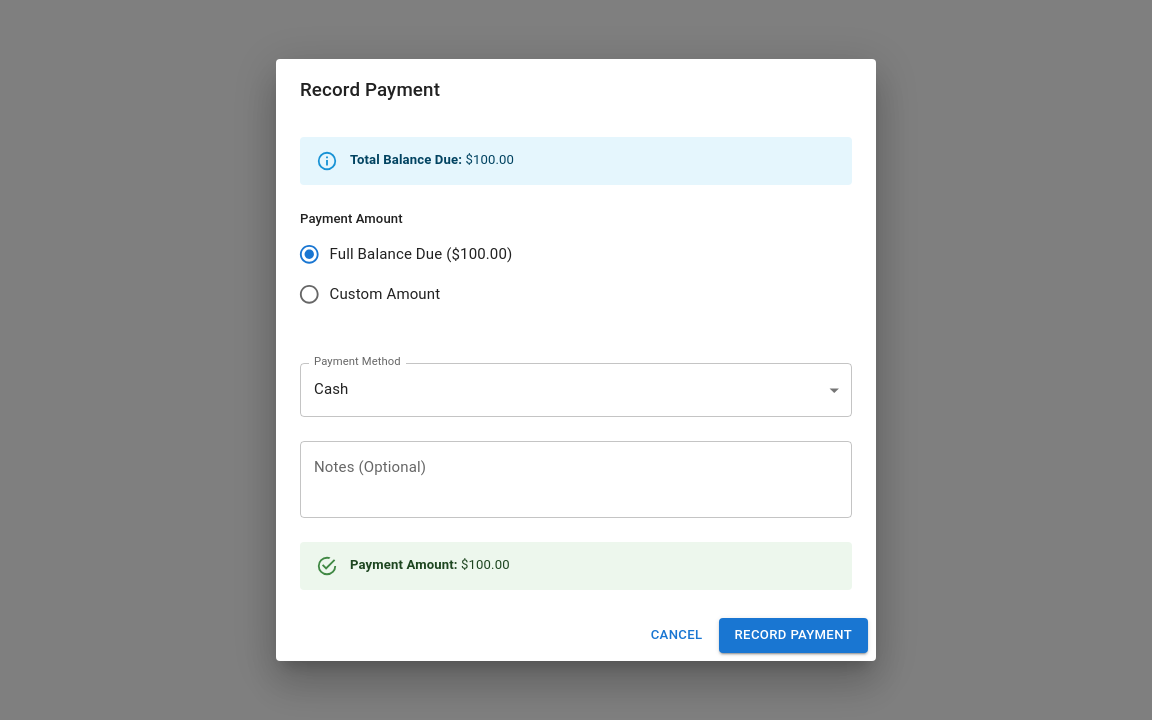
RecordPaymentDialog › Payment Type Selection › should validate custom amount does not exceed balance due
Click the radio button labelled "Custom Amount" at (369,295), box [298,283,440,306]
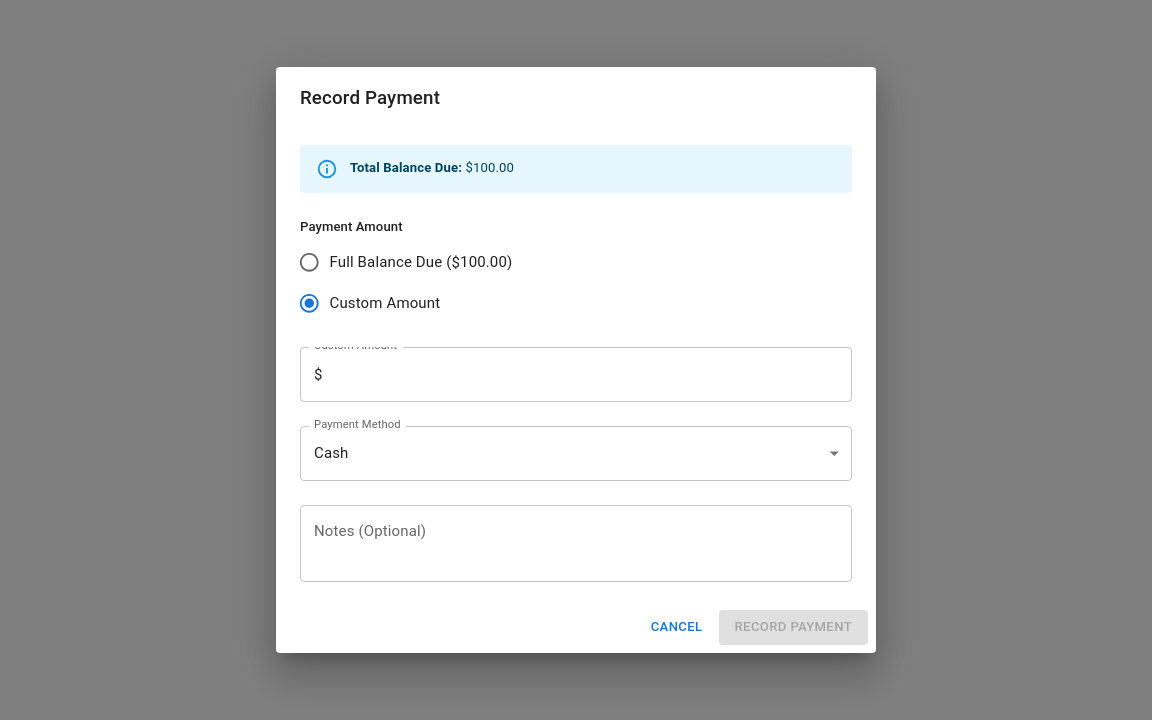
Type "150" into the number field labelled "Custom Amount" at (587,375), box [323,347,852,402]
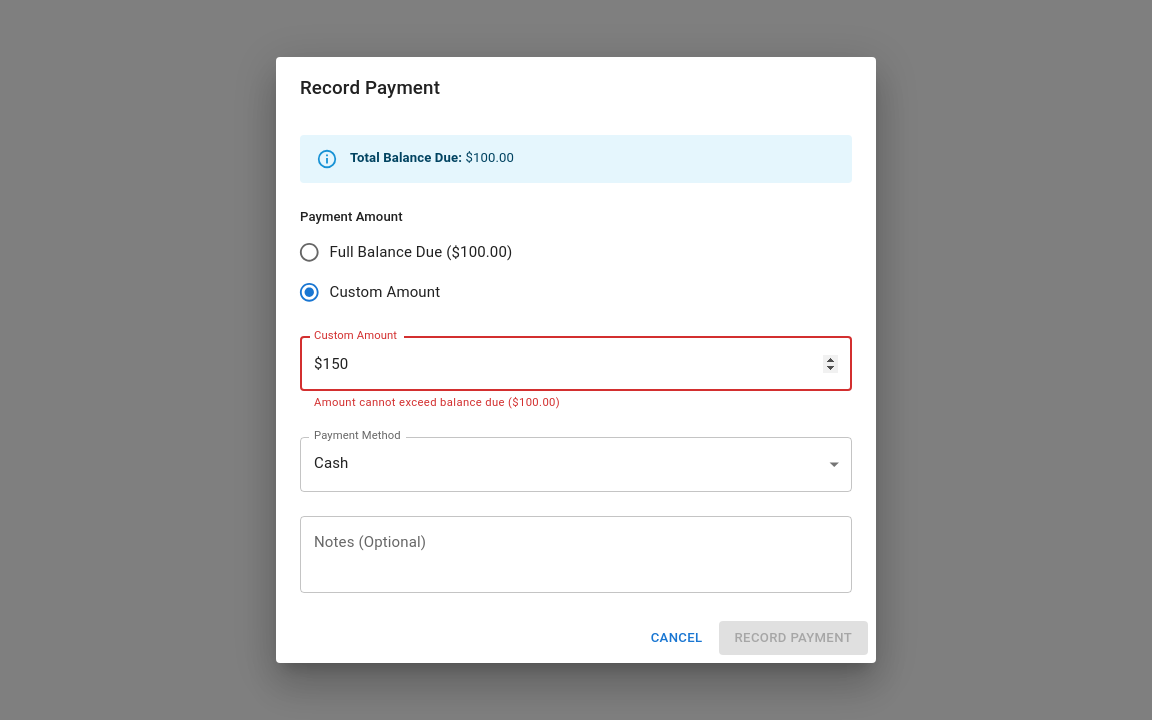
Check: the text "Amount cannot exceed balance due ($100.00)" is shown, box [314,396,560,409]
